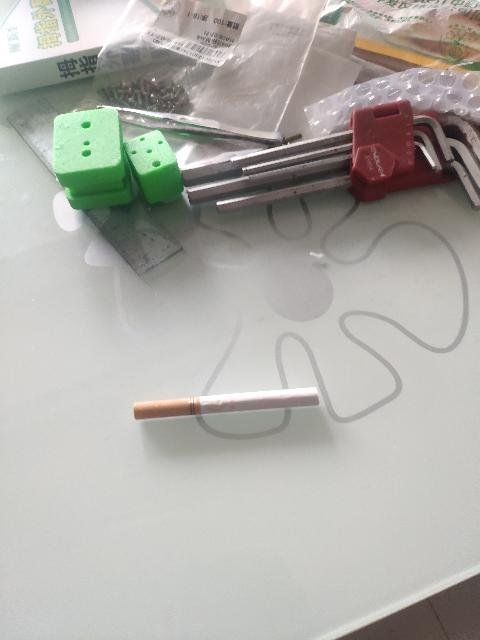Cigarette: (132, 388, 320, 420)
